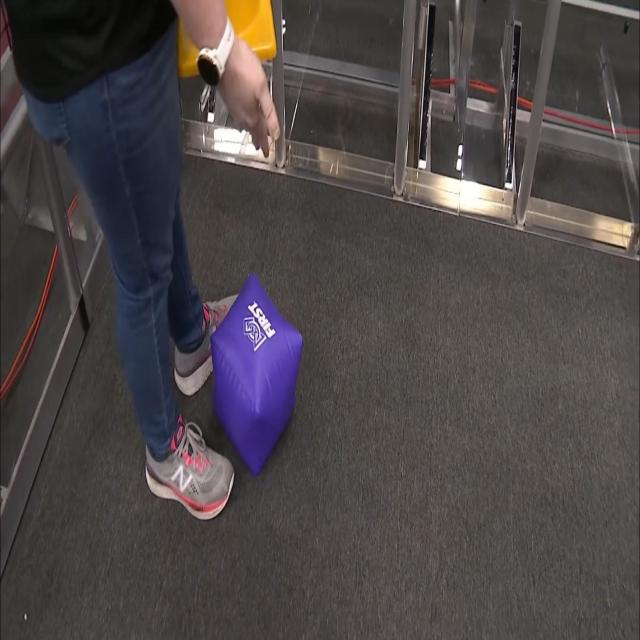frc_cone: (174, 0, 280, 78)
frc_cube: (205, 272, 302, 472)
